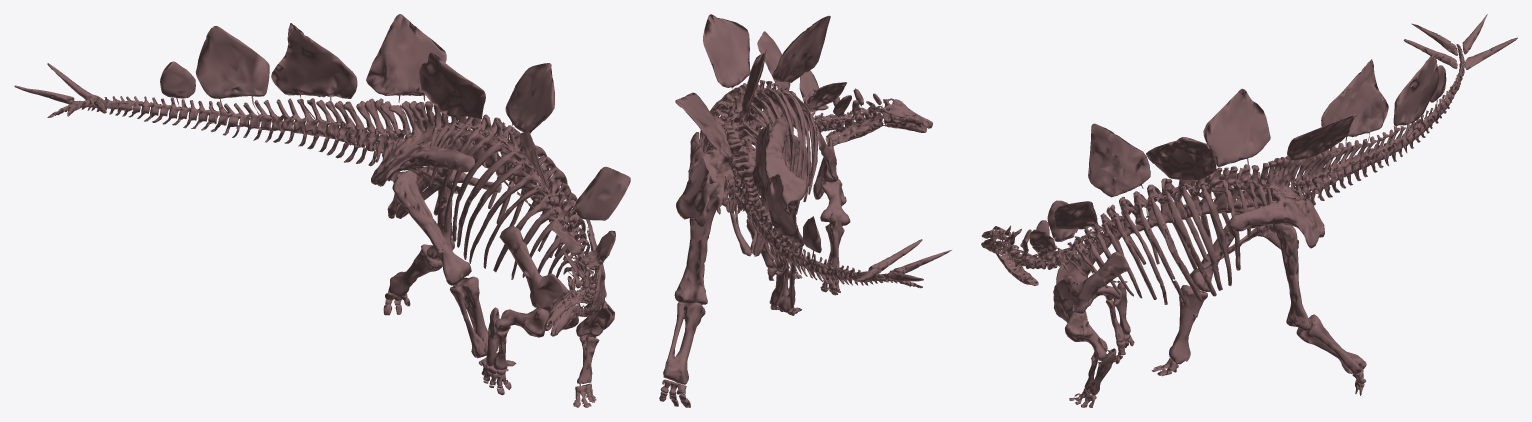
The model's file is stegosaurus.glb.
The picture shows the model from 3 angles, left to right: view 1: azimuth 30°, elevation 25°; view 2: azimuth 150°, elevation 25°; view 3: azimuth 270°, elevation 25°; orthographic projection. The views are drawn at different scales.
Size of the model in its own units: 3750 by 2905 by 4829.
